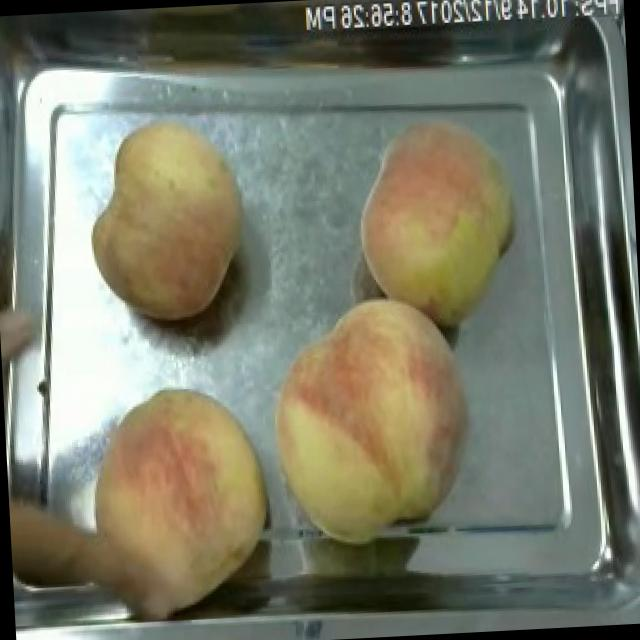Fruit: (255, 284, 484, 554), (73, 372, 287, 622), (343, 103, 531, 340), (75, 108, 258, 332)
